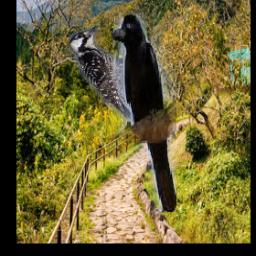Crow: (112, 14, 176, 213)
Woodpecker: (69, 24, 141, 129)
